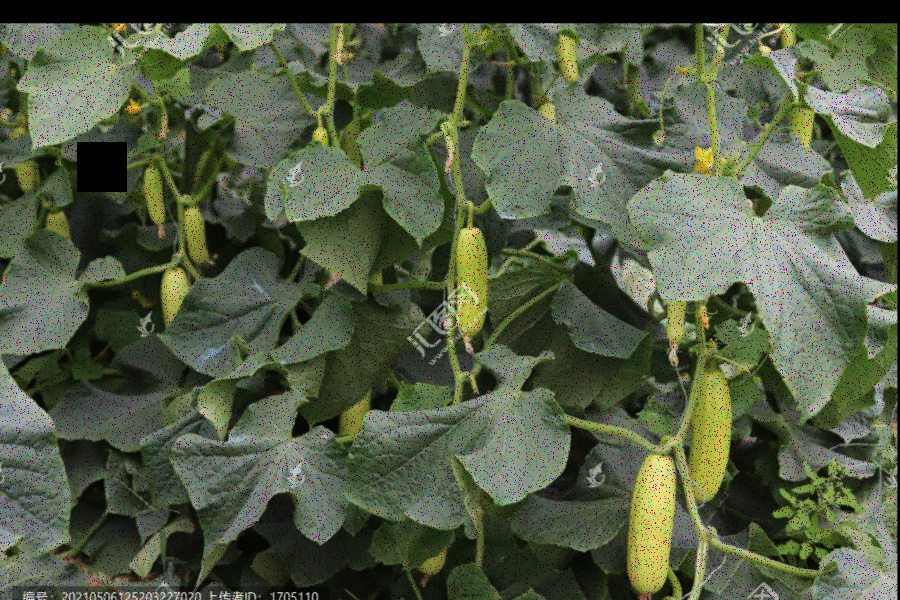cucumber_plant: (644, 138, 860, 413), (186, 401, 562, 544), (26, 24, 184, 153)
